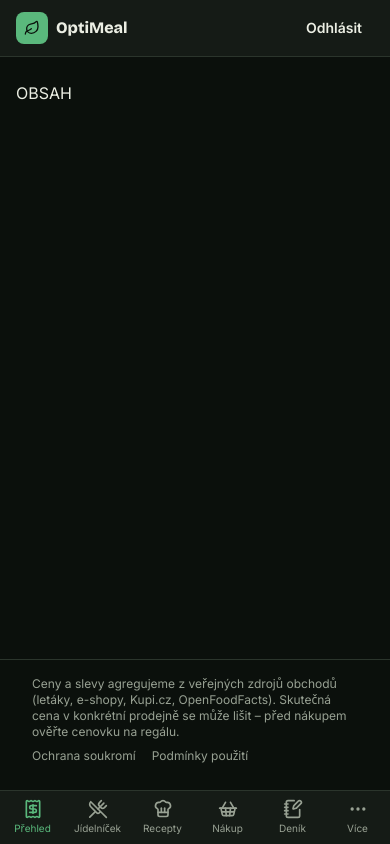
Test: Layout – nabídka „Více“ › sekundární sekce jsou v panelu dostupné
Step 1. Click the button with aria-label "Další sekce" → click(358, 818), box [325, 791, 389, 843]
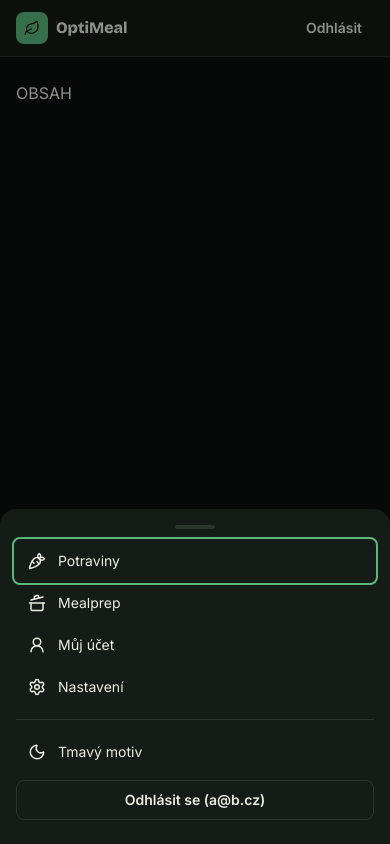
expect the link "Potraviny" is shown: met, box [28, 552, 120, 570]
expect the link "Mealprep" is shown: met, box [28, 594, 120, 612]
expect the link "Můj účet" is shown: met, box [28, 636, 114, 654]
